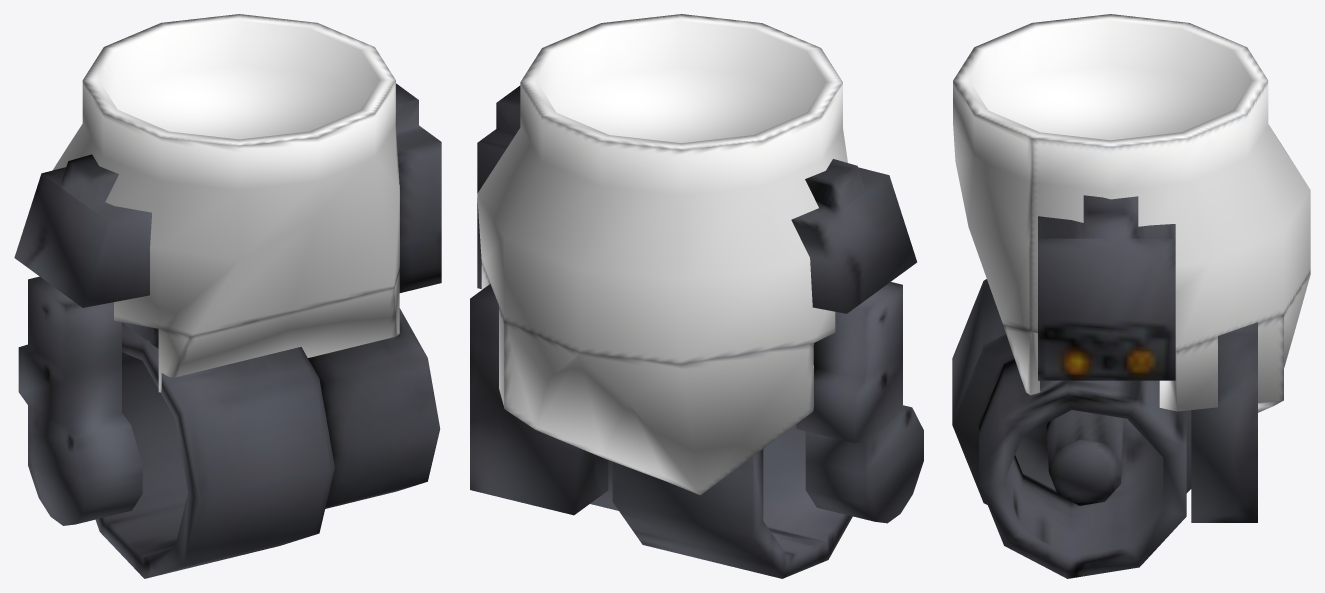
The model's file is r_uarm.dae.
3 views of the same model, side by side, from view 1: azimuth 30°, elevation 25°; view 2: azimuth 150°, elevation 25°; view 3: azimuth 270°, elevation 25° (orthographic). The views are drawn at different scales.
Visible parts, largest first — view 1: r_uarm; view 2: r_uarm; view 3: r_uarm.
Boxes of the visible parts, box(x1,y1,x2,y2) form: r_uarm: box(14, 14, 441, 578); r_uarm: box(470, 14, 923, 578); r_uarm: box(952, 14, 1310, 578).
Size of the model in its own units: 0.1475 by 0.1769 by 0.1261.
1 material, 1 textured.
